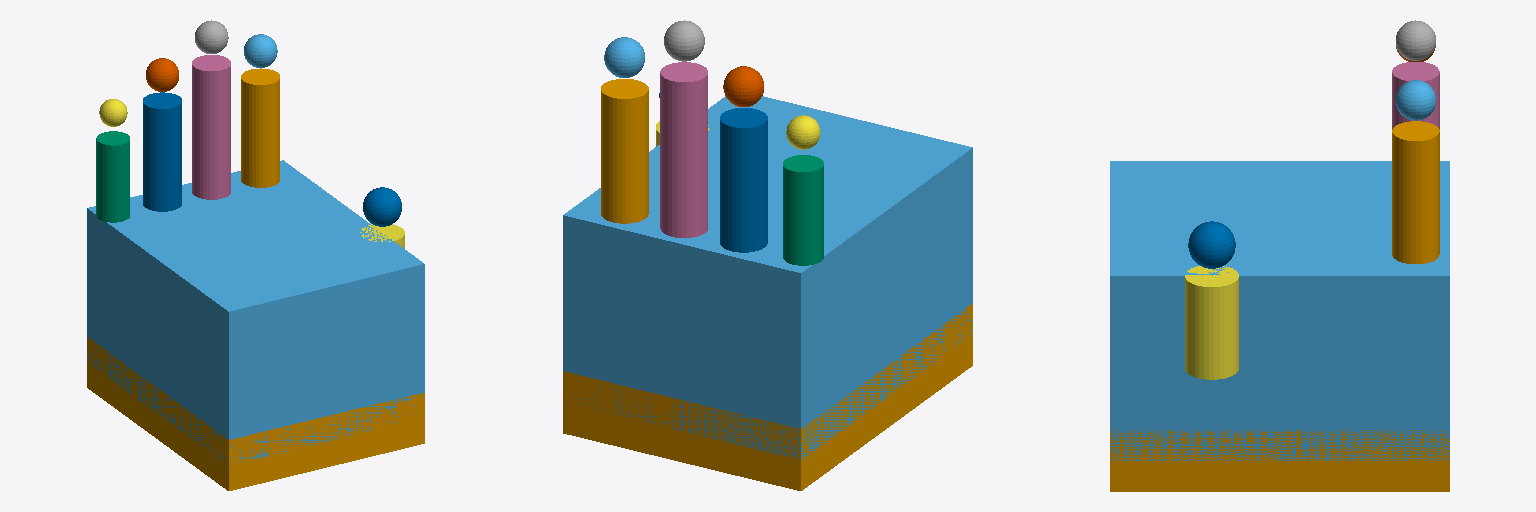
URDF robot description (inspire_ftp_left):
<?xml version="1.0" encoding="utf-8"?>
<!-- 
  Inspire FTP Left Gripper URDF
  
  This is a simplified URDF for the Inspire FTP gripper for use with dex-retargeting.
  The Inspire FTP has 6 DOF per hand:
  - Index finger (1 DOF)
  - Middle finger (1 DOF)
  - Ring finger (1 DOF)
  - Pinky finger (1 DOF)
  - Thumb bend (1 DOF)
  - Thumb rotation (1 DOF)
  
  Joint indices match the Inspire FTP hardware order:
  0: pinky, 1: ring, 2: middle, 3: index, 4: thumb_bend, 5: thumb_rotation
-->
<robot name="inspire_ftp_left">
  
  <!-- Base link (wrist mount point) -->
  <link name="L_hand_base">
    <inertial>
      <origin xyz="0 0 0" rpy="0 0 0"/>
      <mass value="0.1"/>
      <inertia ixx="0.001" ixy="0" ixz="0" iyy="0.001" iyz="0" izz="0.001"/>
    </inertial>
    <visual>
      <origin xyz="0 0 0" rpy="0 0 0"/>
      <geometry>
        <box size="0.08 0.1 0.02"/>
      </geometry>
    </visual>
  </link>
  
  <!-- Palm link -->
  <link name="L_palm">
    <inertial>
      <origin xyz="0 0 0.03" rpy="0 0 0"/>
      <mass value="0.15"/>
      <inertia ixx="0.001" ixy="0" ixz="0" iyy="0.001" iyz="0" izz="0.001"/>
    </inertial>
    <visual>
      <origin xyz="0 0 0.03" rpy="0 0 0"/>
      <geometry>
        <box size="0.08 0.1 0.06"/>
      </geometry>
    </visual>
  </link>
  
  <joint name="L_wrist_joint" type="fixed">
    <parent link="L_hand_base"/>
    <child link="L_palm"/>
    <origin xyz="0 0 0" rpy="0 0 0"/>
  </joint>
  
  <!-- ========== PINKY FINGER (idx 0) ========== -->
  <link name="L_pinky_proximal">
    <inertial>
      <origin xyz="0 0 0.02" rpy="0 0 0"/>
      <mass value="0.01"/>
      <inertia ixx="0.0001" ixy="0" ixz="0" iyy="0.0001" iyz="0" izz="0.0001"/>
    </inertial>
    <visual>
      <origin xyz="0 0 0.015" rpy="0 0 0"/>
      <geometry>
        <cylinder radius="0.006" length="0.03"/>
      </geometry>
    </visual>
  </link>
  
  <joint name="L_pinky_proximal_joint" type="revolute">
    <parent link="L_palm"/>
    <child link="L_pinky_proximal"/>
    <origin xyz="-0.035 0.04 0.06" rpy="0 0 0"/>
    <axis xyz="1 0 0"/>
    <limit lower="0" upper="1.7" effort="1" velocity="2"/>
  </joint>
  
  <link name="L_pinky_tip">
    <inertial>
      <origin xyz="0 0 0.01" rpy="0 0 0"/>
      <mass value="0.005"/>
      <inertia ixx="0.00001" ixy="0" ixz="0" iyy="0.00001" iyz="0" izz="0.00001"/>
    </inertial>
    <visual>
      <origin xyz="0 0 0.01" rpy="0 0 0"/>
      <geometry>
        <sphere radius="0.005"/>
      </geometry>
    </visual>
  </link>
  
  <joint name="L_pinky_tip_joint" type="fixed">
    <parent link="L_pinky_proximal"/>
    <child link="L_pinky_tip"/>
    <origin xyz="0 0 0.03" rpy="0 0 0"/>
  </joint>
  
  <!-- ========== RING FINGER (idx 1) ========== -->
  <link name="L_ring_proximal">
    <inertial>
      <origin xyz="0 0 0.025" rpy="0 0 0"/>
      <mass value="0.01"/>
      <inertia ixx="0.0001" ixy="0" ixz="0" iyy="0.0001" iyz="0" izz="0.0001"/>
    </inertial>
    <visual>
      <origin xyz="0 0 0.02" rpy="0 0 0"/>
      <geometry>
        <cylinder radius="0.007" length="0.04"/>
      </geometry>
    </visual>
  </link>
  
  <joint name="L_ring_proximal_joint" type="revolute">
    <parent link="L_palm"/>
    <child link="L_ring_proximal"/>
    <origin xyz="-0.015 0.04 0.06" rpy="0 0 0"/>
    <axis xyz="1 0 0"/>
    <limit lower="0" upper="1.7" effort="1" velocity="2"/>
  </joint>
  
  <link name="L_ring_tip">
    <inertial>
      <origin xyz="0 0 0.01" rpy="0 0 0"/>
      <mass value="0.005"/>
      <inertia ixx="0.00001" ixy="0" ixz="0" iyy="0.00001" iyz="0" izz="0.00001"/>
    </inertial>
    <visual>
      <origin xyz="0 0 0.01" rpy="0 0 0"/>
      <geometry>
        <sphere radius="0.006"/>
      </geometry>
    </visual>
  </link>
  
  <joint name="L_ring_tip_joint" type="fixed">
    <parent link="L_ring_proximal"/>
    <child link="L_ring_tip"/>
    <origin xyz="0 0 0.04" rpy="0 0 0"/>
  </joint>
  
  <!-- ========== MIDDLE FINGER (idx 2) ========== -->
  <link name="L_middle_proximal">
    <inertial>
      <origin xyz="0 0 0.025" rpy="0 0 0"/>
      <mass value="0.01"/>
      <inertia ixx="0.0001" ixy="0" ixz="0" iyy="0.0001" iyz="0" izz="0.0001"/>
    </inertial>
    <visual>
      <origin xyz="0 0 0.025" rpy="0 0 0"/>
      <geometry>
        <cylinder radius="0.007" length="0.05"/>
      </geometry>
    </visual>
  </link>
  
  <joint name="L_middle_proximal_joint" type="revolute">
    <parent link="L_palm"/>
    <child link="L_middle_proximal"/>
    <origin xyz="0.005 0.04 0.06" rpy="0 0 0"/>
    <axis xyz="1 0 0"/>
    <limit lower="0" upper="1.7" effort="1" velocity="2"/>
  </joint>
  
  <link name="L_middle_tip">
    <inertial>
      <origin xyz="0 0 0.01" rpy="0 0 0"/>
      <mass value="0.005"/>
      <inertia ixx="0.00001" ixy="0" ixz="0" iyy="0.00001" iyz="0" izz="0.00001"/>
    </inertial>
    <visual>
      <origin xyz="0 0 0.01" rpy="0 0 0"/>
      <geometry>
        <sphere radius="0.006"/>
      </geometry>
    </visual>
  </link>
  
  <joint name="L_middle_tip_joint" type="fixed">
    <parent link="L_middle_proximal"/>
    <child link="L_middle_tip"/>
    <origin xyz="0 0 0.05" rpy="0 0 0"/>
  </joint>
  
  <!-- ========== INDEX FINGER (idx 3) ========== -->
  <link name="L_index_proximal">
    <inertial>
      <origin xyz="0 0 0.02" rpy="0 0 0"/>
      <mass value="0.01"/>
      <inertia ixx="0.0001" ixy="0" ixz="0" iyy="0.0001" iyz="0" izz="0.0001"/>
    </inertial>
    <visual>
      <origin xyz="0 0 0.02" rpy="0 0 0"/>
      <geometry>
        <cylinder radius="0.007" length="0.04"/>
      </geometry>
    </visual>
  </link>
  
  <joint name="L_index_proximal_joint" type="revolute">
    <parent link="L_palm"/>
    <child link="L_index_proximal"/>
    <origin xyz="0.025 0.04 0.06" rpy="0 0 0"/>
    <axis xyz="1 0 0"/>
    <limit lower="0" upper="1.7" effort="1" velocity="2"/>
  </joint>
  
  <link name="L_index_tip">
    <inertial>
      <origin xyz="0 0 0.01" rpy="0 0 0"/>
      <mass value="0.005"/>
      <inertia ixx="0.00001" ixy="0" ixz="0" iyy="0.00001" iyz="0" izz="0.00001"/>
    </inertial>
    <visual>
      <origin xyz="0 0 0.01" rpy="0 0 0"/>
      <geometry>
        <sphere radius="0.006"/>
      </geometry>
    </visual>
  </link>
  
  <joint name="L_index_tip_joint" type="fixed">
    <parent link="L_index_proximal"/>
    <child link="L_index_tip"/>
    <origin xyz="0 0 0.04" rpy="0 0 0"/>
  </joint>
  
  <!-- ========== THUMB (idx 4: bend, idx 5: rotation) ========== -->
  <link name="L_thumb_base">
    <inertial>
      <origin xyz="0 0 0" rpy="0 0 0"/>
      <mass value="0.01"/>
      <inertia ixx="0.0001" ixy="0" ixz="0" iyy="0.0001" iyz="0" izz="0.0001"/>
    </inertial>
  </link>
  
  <joint name="L_thumb_proximal_yaw_joint" type="revolute">
    <parent link="L_palm"/>
    <child link="L_thumb_base"/>
    <origin xyz="0.04 -0.02 0.03" rpy="0 0 -0.5"/>
    <axis xyz="0 0 1"/>
    <limit lower="-0.1" upper="1.3" effort="1" velocity="2"/>
  </joint>
  
  <link name="L_thumb_proximal">
    <inertial>
      <origin xyz="0 0 0.015" rpy="0 0 0"/>
      <mass value="0.01"/>
      <inertia ixx="0.0001" ixy="0" ixz="0" iyy="0.0001" iyz="0" izz="0.0001"/>
    </inertial>
    <visual>
      <origin xyz="0 0 0.015" rpy="0 0 0"/>
      <geometry>
        <cylinder radius="0.008" length="0.03"/>
      </geometry>
    </visual>
  </link>
  
  <joint name="L_thumb_proximal_pitch_joint" type="revolute">
    <parent link="L_thumb_base"/>
    <child link="L_thumb_proximal"/>
    <origin xyz="0 0 0" rpy="0 0 0"/>
    <axis xyz="1 0 0"/>
    <limit lower="0" upper="0.5" effort="1" velocity="2"/>
  </joint>
  
  <link name="L_thumb_tip">
    <inertial>
      <origin xyz="0 0 0.01" rpy="0 0 0"/>
      <mass value="0.005"/>
      <inertia ixx="0.00001" ixy="0" ixz="0" iyy="0.00001" iyz="0" izz="0.00001"/>
    </inertial>
    <visual>
      <origin xyz="0 0 0.01" rpy="0 0 0"/>
      <geometry>
        <sphere radius="0.007"/>
      </geometry>
    </visual>
  </link>
  
  <joint name="L_thumb_tip_joint" type="fixed">
    <parent link="L_thumb_proximal"/>
    <child link="L_thumb_tip"/>
    <origin xyz="0 0 0.03" rpy="0 0 0"/>
  </joint>
  
</robot>

--- Render facts (derived) ---
3 views of the same robot in one strip: view 1: azimuth 30°, elevation 25°; view 2: azimuth 150°, elevation 25°; view 3: azimuth 270°, elevation 25° (orthographic).
Robot: inspire_ftp_left — 13 links, 12 joints (6 revolute, 6 fixed); root link L_hand_base; default pose: all joints at 0.
Links seen in each view (by area): view 1: L_palm, L_hand_base, L_middle_proximal, L_ring_proximal, L_index_proximal, L_pinky_proximal, L_thumb_tip, L_index_tip, L_ring_tip, L_middle_tip, L_pinky_tip, L_thumb_proximal; view 2: L_palm, L_hand_base, L_middle_proximal, L_index_proximal, L_ring_proximal, L_pinky_proximal, L_middle_tip, L_index_tip, L_ring_tip, L_pinky_tip; view 3: L_palm, L_hand_base, L_index_proximal, L_thumb_proximal, L_thumb_tip, L_middle_proximal, L_index_tip, L_middle_tip.
Link boxes in pixels (left/top/right/bottom): L_palm: left=87, top=160, right=424, bottom=465; L_hand_base: left=87, top=337, right=424, bottom=490; L_middle_proximal: left=192, top=55, right=230, bottom=199; L_ring_proximal: left=143, top=92, right=181, bottom=211; L_index_proximal: left=241, top=68, right=279, bottom=187; L_pinky_proximal: left=96, top=131, right=129, bottom=222; L_thumb_tip: left=363, top=187, right=401, bottom=226; L_index_tip: left=244, top=34, right=277, bottom=67; L_ring_tip: left=146, top=58, right=178, bottom=91; L_middle_tip: left=195, top=20, right=228, bottom=53; L_pinky_tip: left=99, top=99, right=127, bottom=126; L_thumb_proximal: left=360, top=224, right=404, bottom=248; L_palm: left=563, top=96, right=972, bottom=459; L_hand_base: left=563, top=304, right=972, bottom=490; L_middle_proximal: left=660, top=62, right=707, bottom=237; L_index_proximal: left=601, top=79, right=648, bottom=223; L_ring_proximal: left=720, top=108, right=767, bottom=252; L_pinky_proximal: left=783, top=155, right=823, bottom=265; L_middle_tip: left=664, top=20, right=704, bottom=61; L_index_tip: left=604, top=37, right=644, bottom=77; L_ring_tip: left=723, top=66, right=763, bottom=106; L_pinky_tip: left=786, top=115, right=820, bottom=149; L_palm: left=1110, top=161, right=1449, bottom=460; L_hand_base: left=1110, top=430, right=1449, bottom=491; L_index_proximal: left=1392, top=121, right=1439, bottom=263; L_thumb_proximal: left=1185, top=266, right=1238, bottom=379; L_thumb_tip: left=1188, top=221, right=1235, bottom=268; L_middle_proximal: left=1392, top=62, right=1439, bottom=129; L_index_tip: left=1396, top=80, right=1435, bottom=120; L_middle_tip: left=1396, top=20, right=1435, bottom=60.
Size in the robot's own frame: 0.089 by 0.1 by 0.136 metres.
Geometry: primitives only (box / cylinder / sphere), no mesh files.
